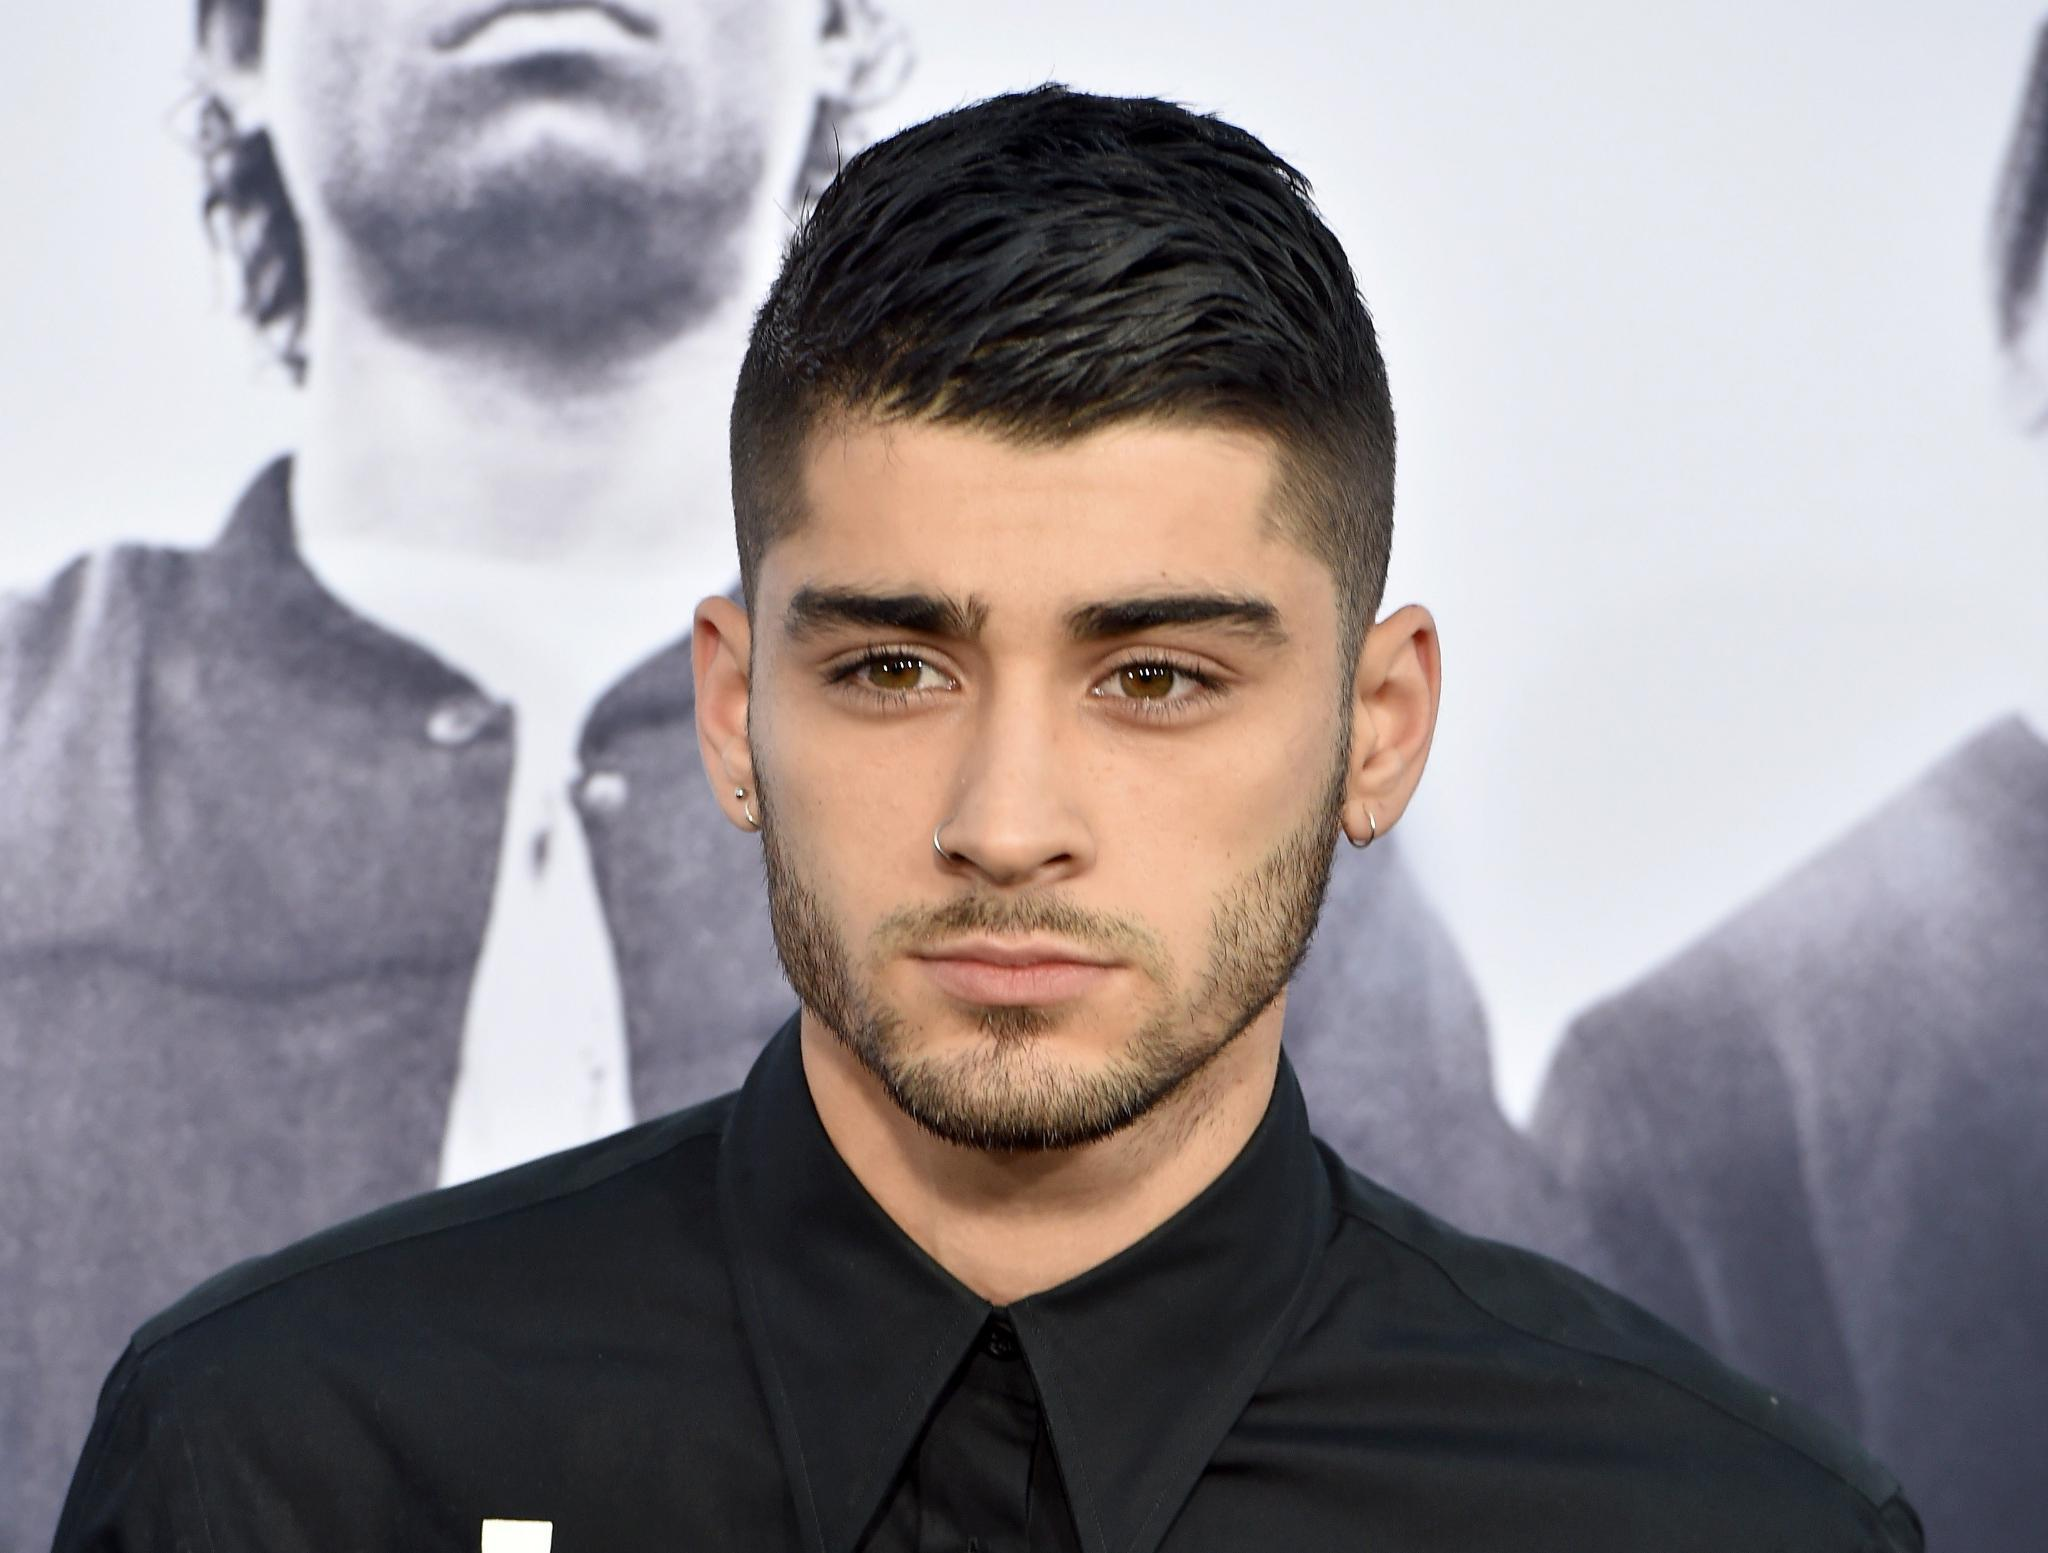Sober: (758, 414, 1337, 1065)
